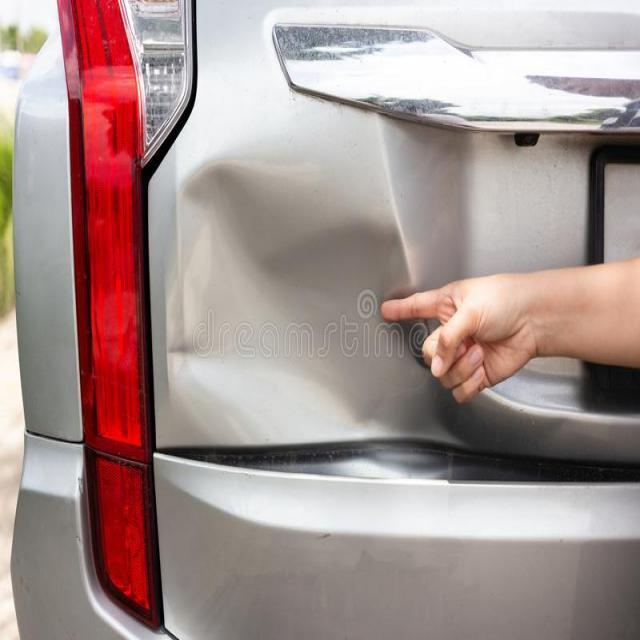car damage: (166, 157, 475, 471)
